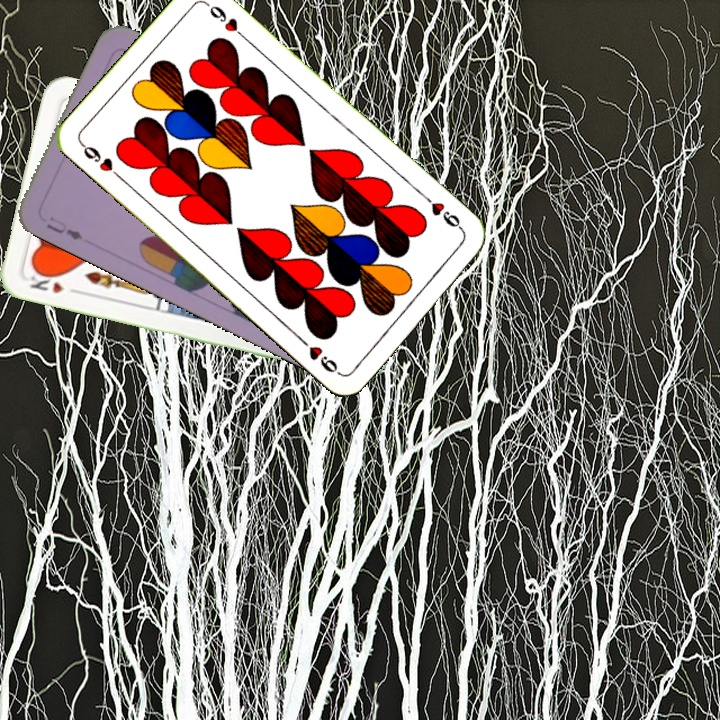EU: (42, 212, 86, 243)
H9: (76, 139, 125, 183), (419, 191, 467, 235)
HK: (26, 266, 66, 296)
